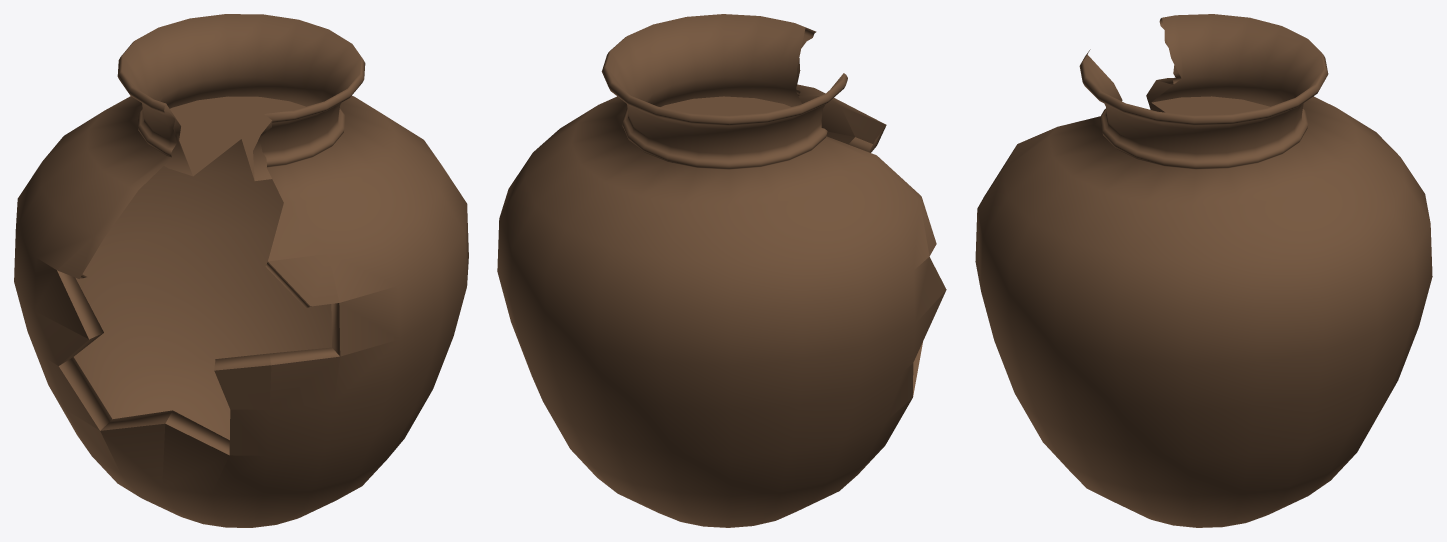
File: Vase_4-3.fbx
3 views of the same model, side by side, from view 1: azimuth 30°, elevation 25°; view 2: azimuth 150°, elevation 25°; view 3: azimuth 270°, elevation 25° (orthographic).
Visible parts, largest first — view 1: Vase_4-3; view 2: Vase_4-3; view 3: Vase_4-3.
Part boxes in pixels (left/top/right/bottom): Vase_4-3: left=14, top=14, right=468, bottom=527; Vase_4-3: left=497, top=14, right=946, bottom=527; Vase_4-3: left=975, top=14, right=1432, bottom=527.
Bounding box in the file's own units: 86.65 × 89.8 × 86.65.
Materials: 1 (1 with a texture image).
